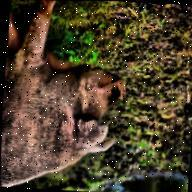boar: (0, 0, 133, 192)
